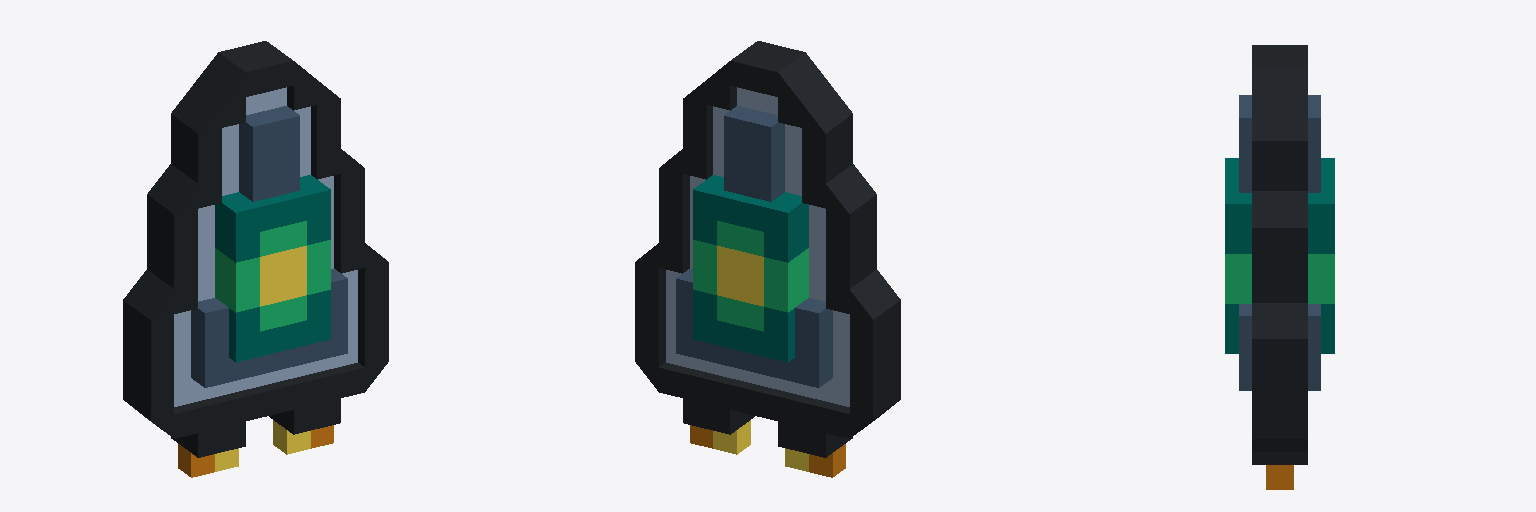
The model's file is PlayerShip.obj.
3 renders of one model, left to right at view 1: azimuth 30°, elevation 25°; view 2: azimuth 150°, elevation 25°; view 3: azimuth 270°, elevation 25°, orthographic.
Bounding box in the file's own units: 10 × 16 × 4.